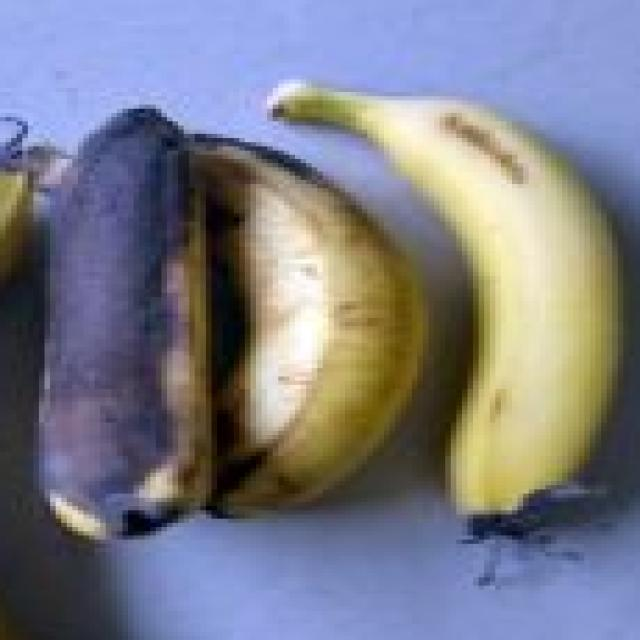Bad_Banana-0 day: (39, 107, 211, 539)
Good_Banana-2-3 days: (273, 84, 607, 516)
